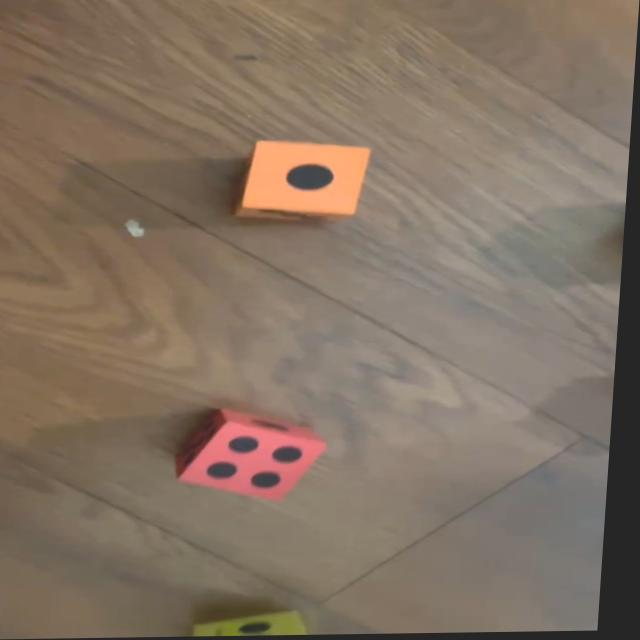cube: (181, 409, 331, 502)
